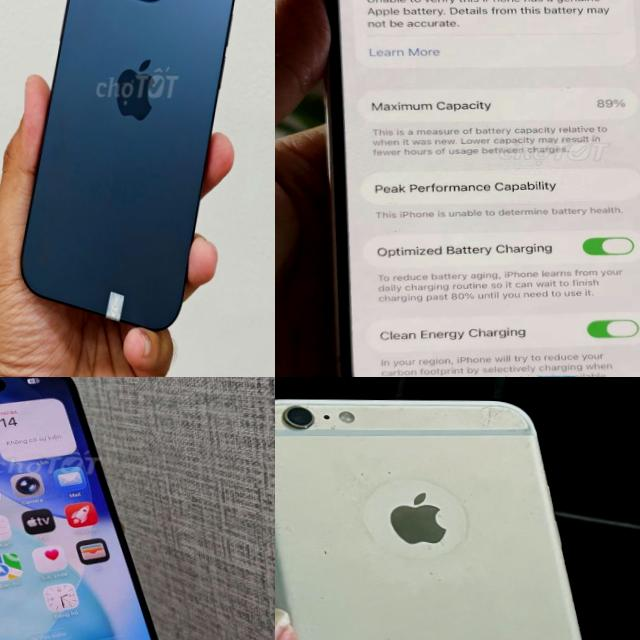gen_12_13: (316, 0, 640, 377)
gen_15: (13, 0, 252, 350), (0, 377, 187, 640)
gen_6: (275, 389, 630, 640)
scratch: (275, 399, 338, 440), (346, 462, 406, 502), (462, 401, 534, 431), (307, 535, 378, 559)
